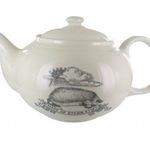other: (13, 14, 147, 126)
